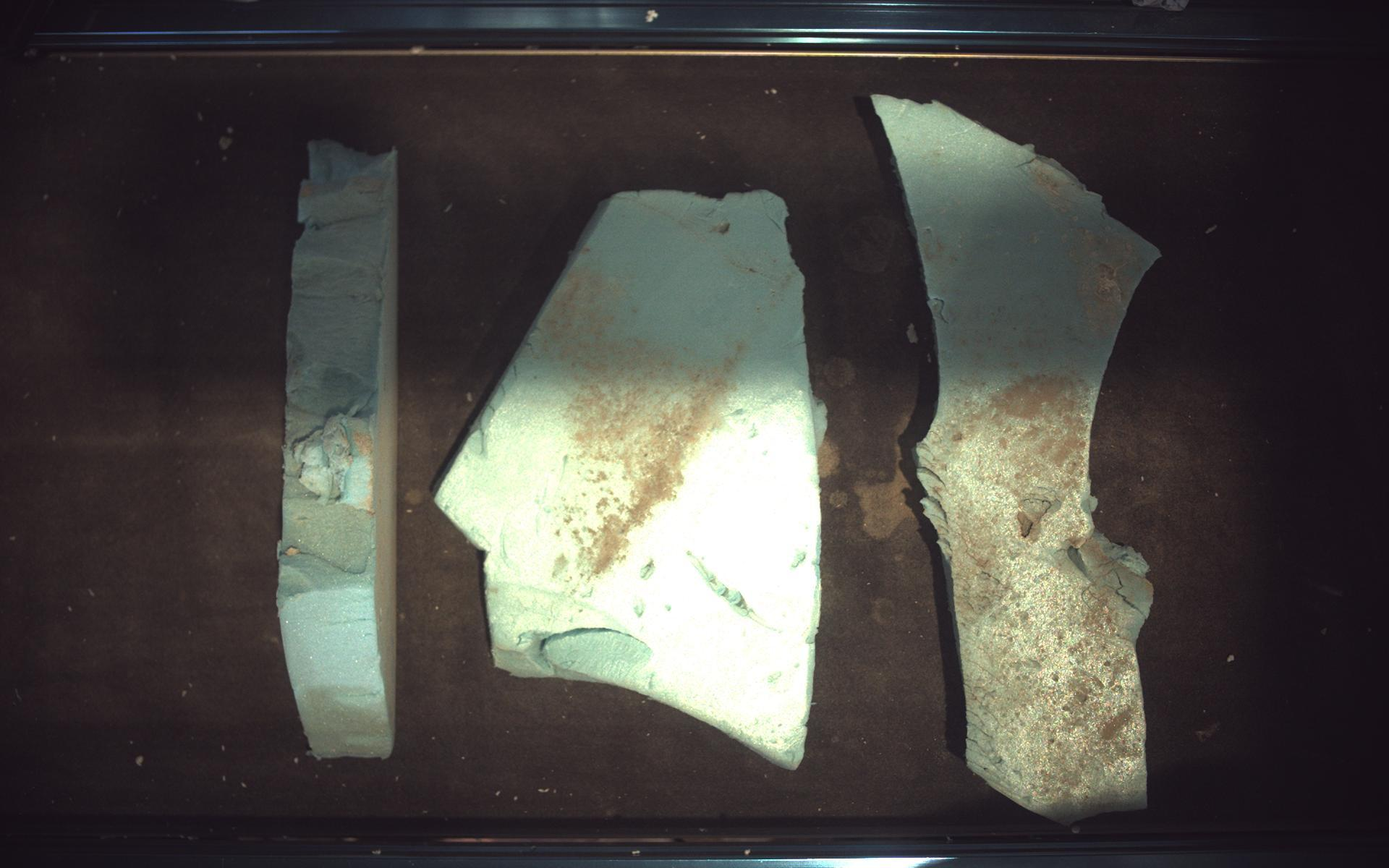foam: (436, 190, 823, 770), (874, 94, 1161, 824), (276, 140, 396, 760)
